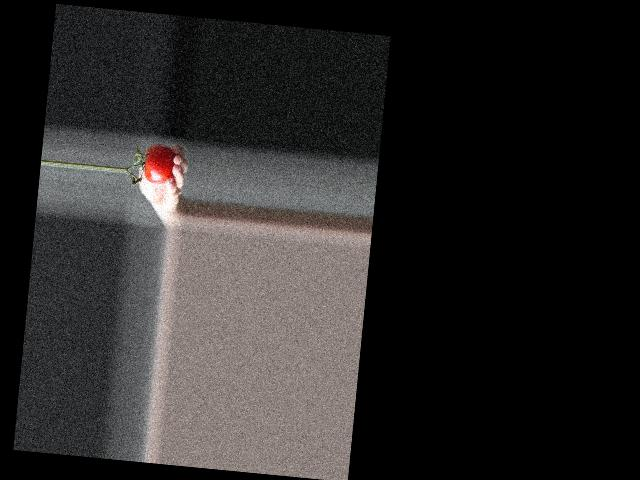tomato: (142, 142, 176, 185)
